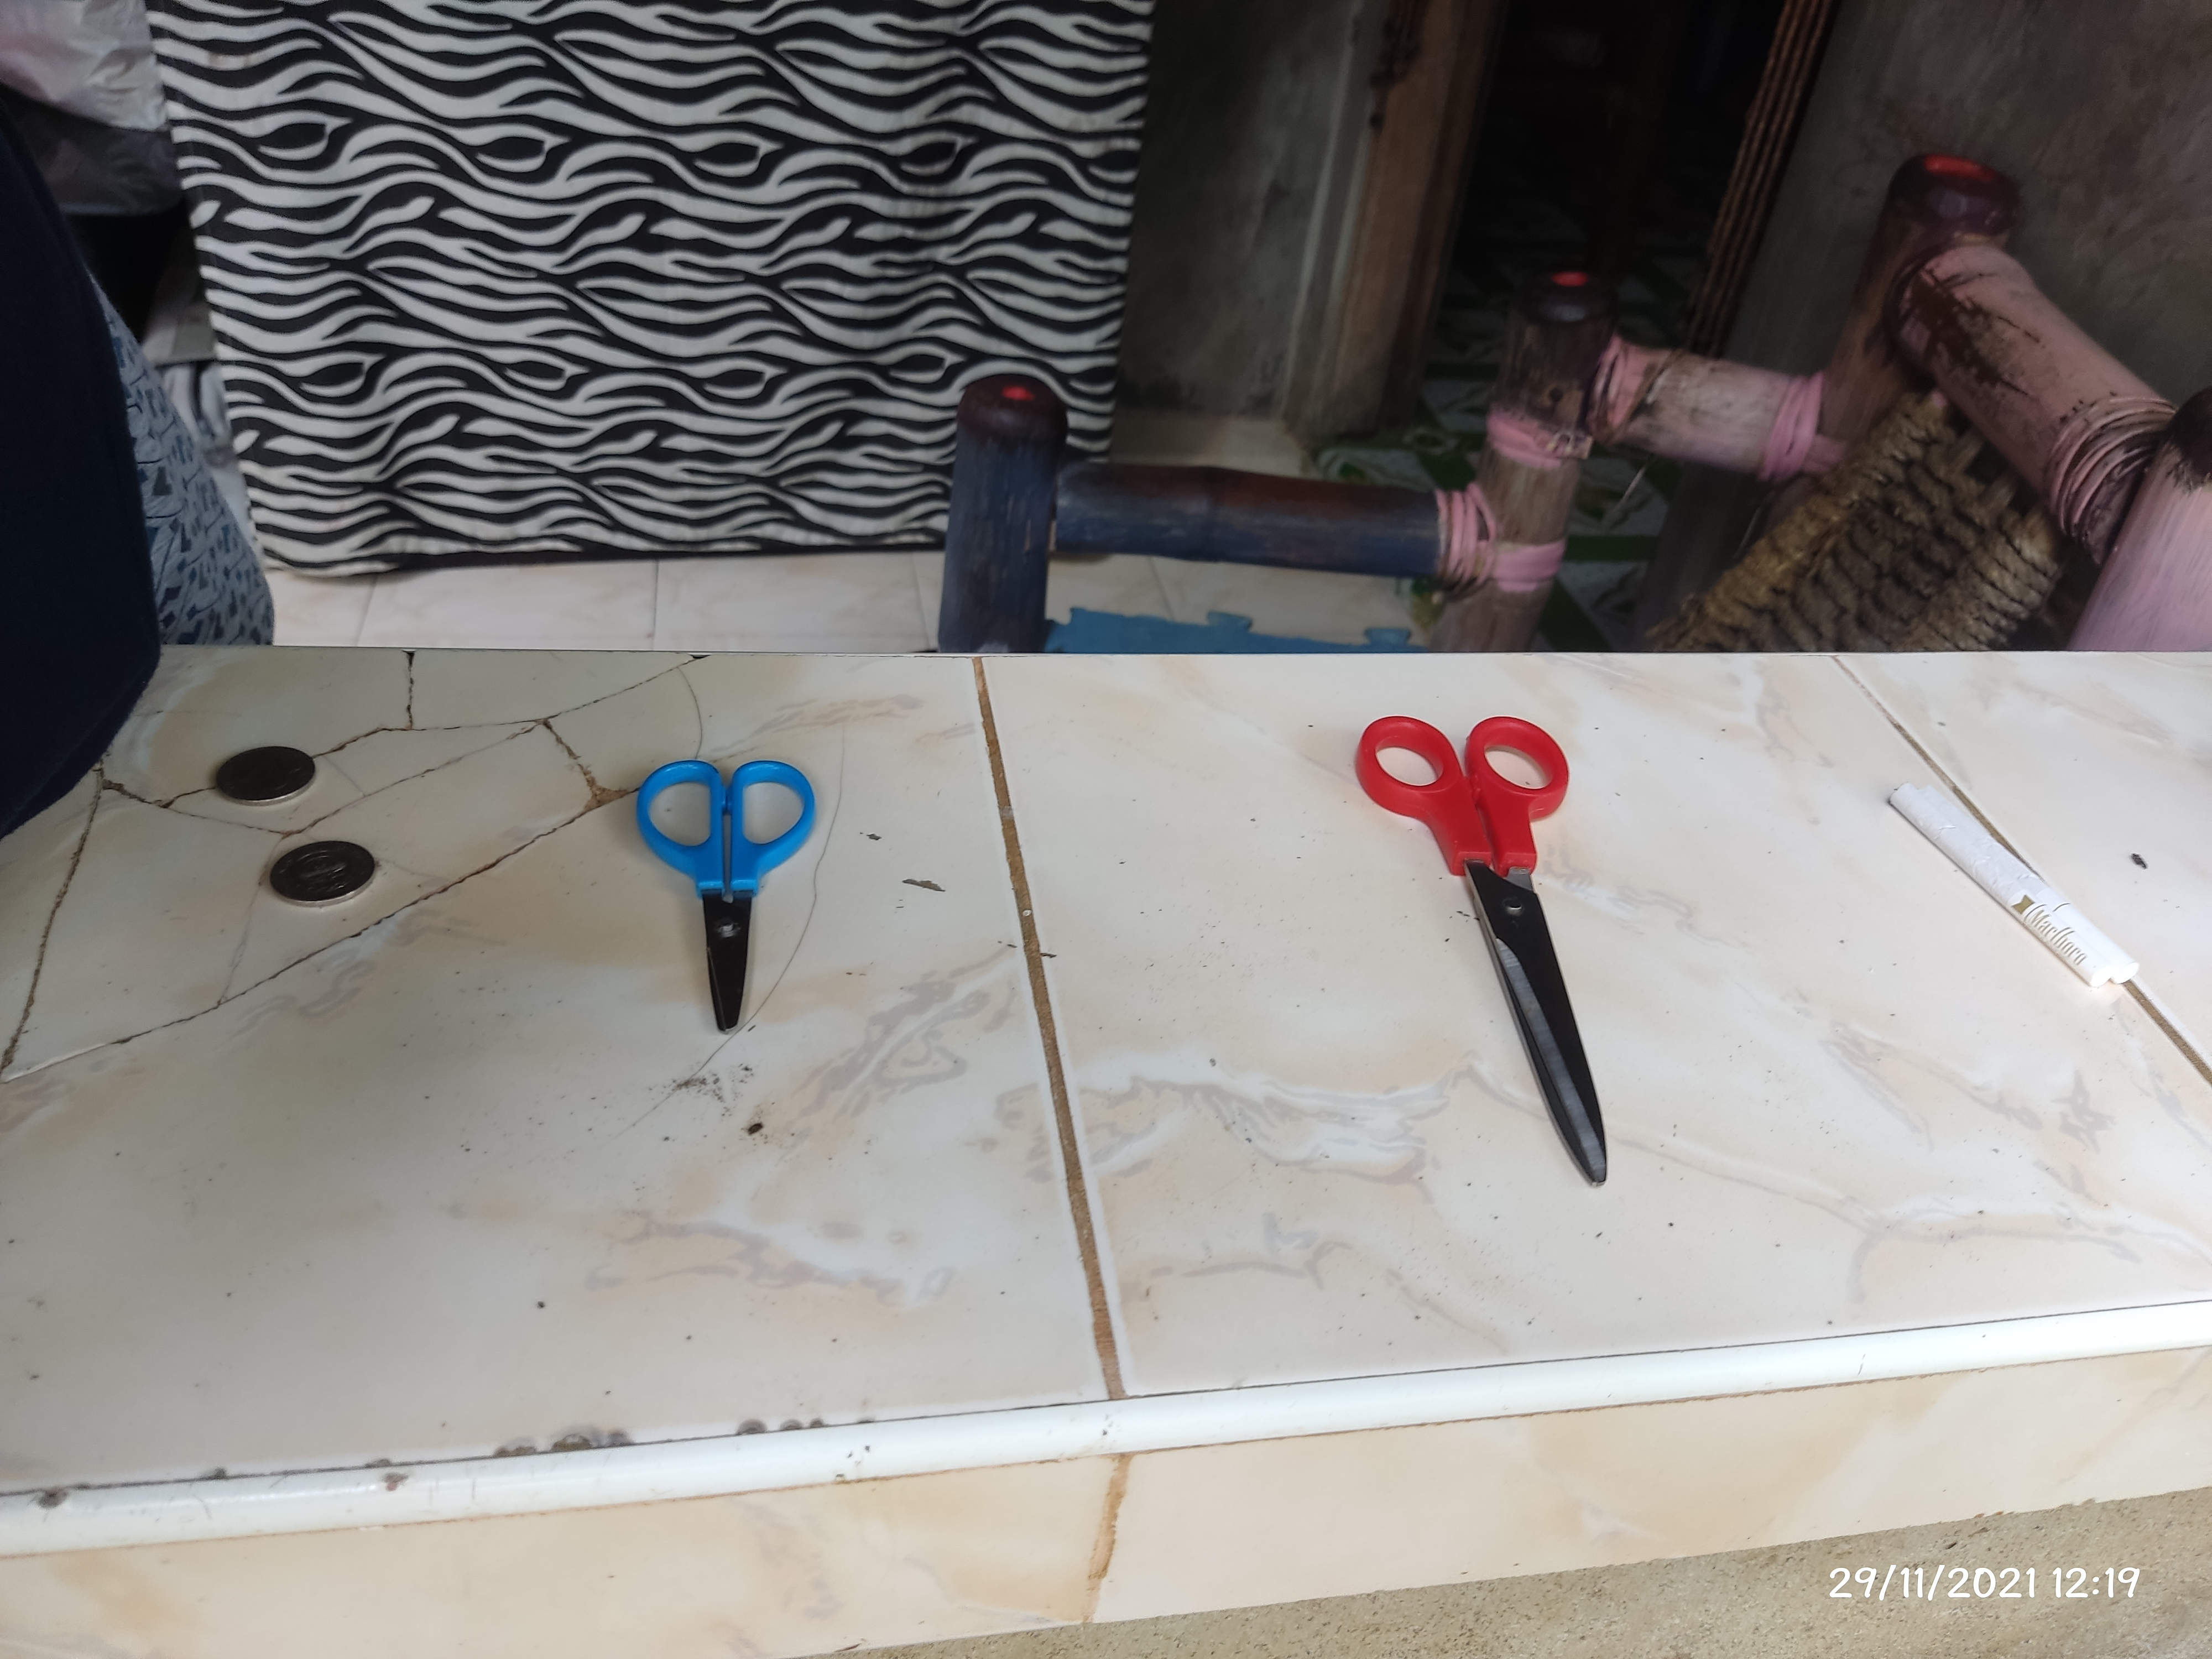scissor: (1345, 709, 1616, 1187), (624, 756, 820, 1042)
